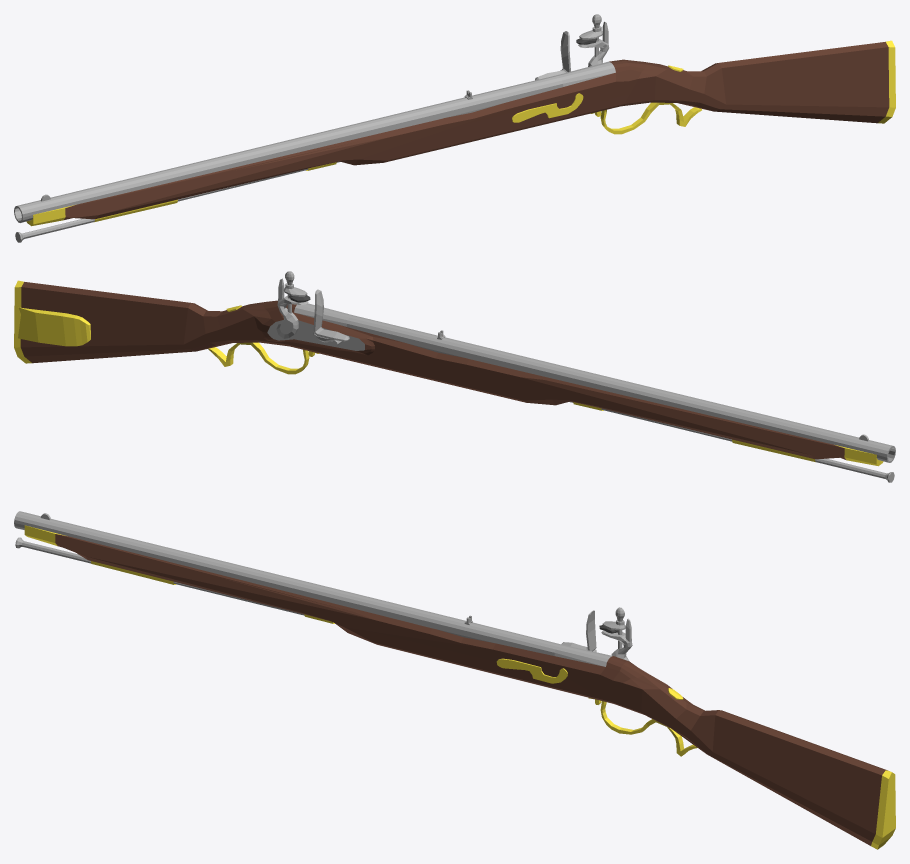
Rendered from BakerRifle.fbx.
3 views of the same model, one above another, from view 1: azimuth 30°, elevation 25°; view 2: azimuth 150°, elevation 25°; view 3: azimuth 330°, elevation 25° (orthographic).
Visible parts, largest first — view 1: BakerRifle, Cock, RammingRod, Frizzen; view 2: BakerRifle, Cock, RammingRod, Frizzen; view 3: BakerRifle, Cock, RammingRod.
Boxes of the visible parts, <box> form: BakerRifle: <box>14,40,895,226</box>; Cock: <box>576,14,609,66</box>; RammingRod: <box>15,161,340,242</box>; Frizzen: <box>535,31,570,80</box>; BakerRifle: <box>14,280,895,466</box>; Cock: <box>276,271,310,338</box>; RammingRod: <box>569,401,894,482</box>; Frizzen: <box>313,289,349,341</box>; BakerRifle: <box>14,511,895,849</box>; Cock: <box>599,607,632,661</box>; RammingRod: <box>15,537,333,622</box>.
Bounding box in the file's own units: 0.0421 × 0.8603 × 0.1544.
